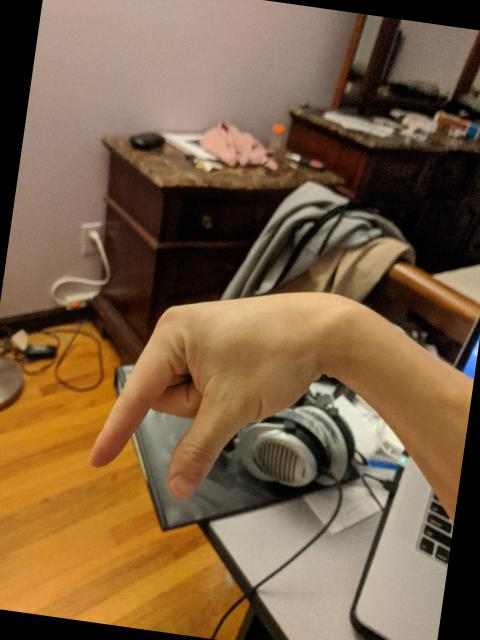Q: (81, 259, 337, 522)
